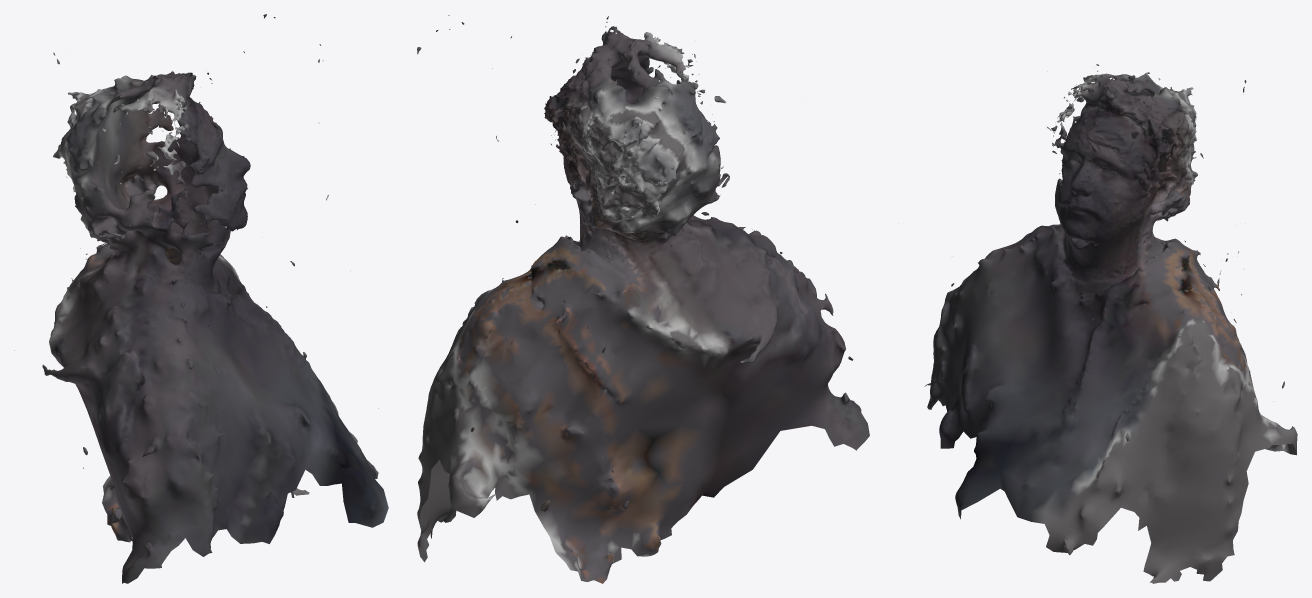
Rendered from 3dscan01-ver01.opt.glb.
The picture shows the model from 3 angles, left to right: view 1: azimuth 30°, elevation 25°; view 2: azimuth 150°, elevation 25°; view 3: azimuth 270°, elevation 25°; orthographic projection. The views are drawn at different scales.
Visible parts, largest first — view 1: 3DModel; view 2: 3DModel; view 3: 3DModel.
Part boxes in pixels (x1,y1,x2,y2): 3DModel: (14, 14, 388, 583); 3DModel: (417, 15, 869, 583); 3DModel: (924, 64, 1297, 583).
Size of the model in its own units: 0.6963 by 0.99 by 0.7618.
